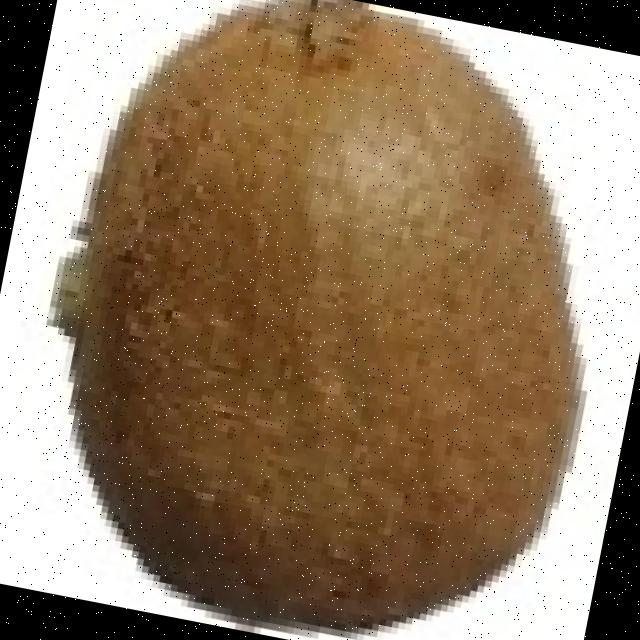kiwi: (70, 0, 590, 623)
